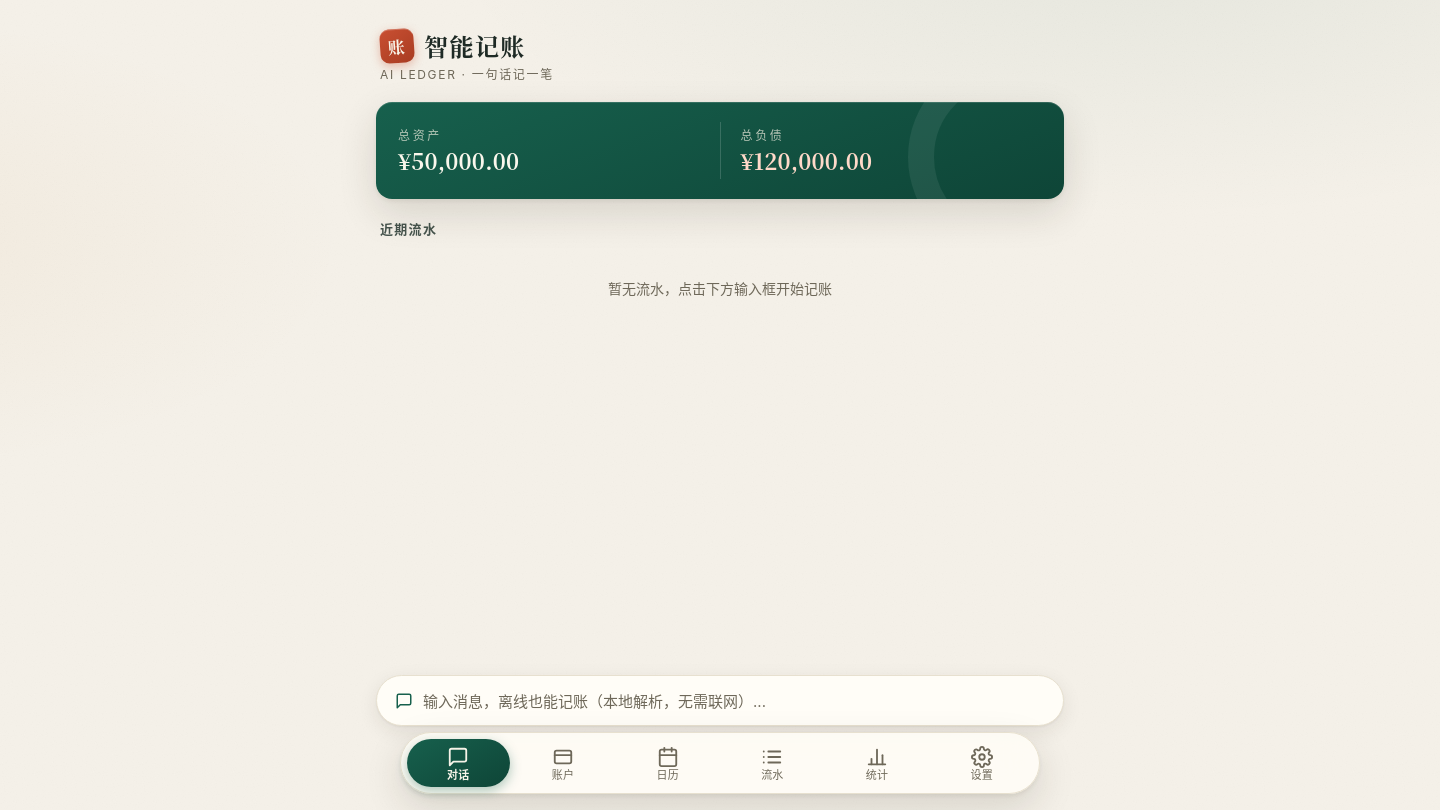
Test: App 冒烟 › 还款提示选择「暂不记录」不产生流水
The image size is (1440, 810).
Click the button "对话".
click(458, 763)  # box [407,739,510,787]
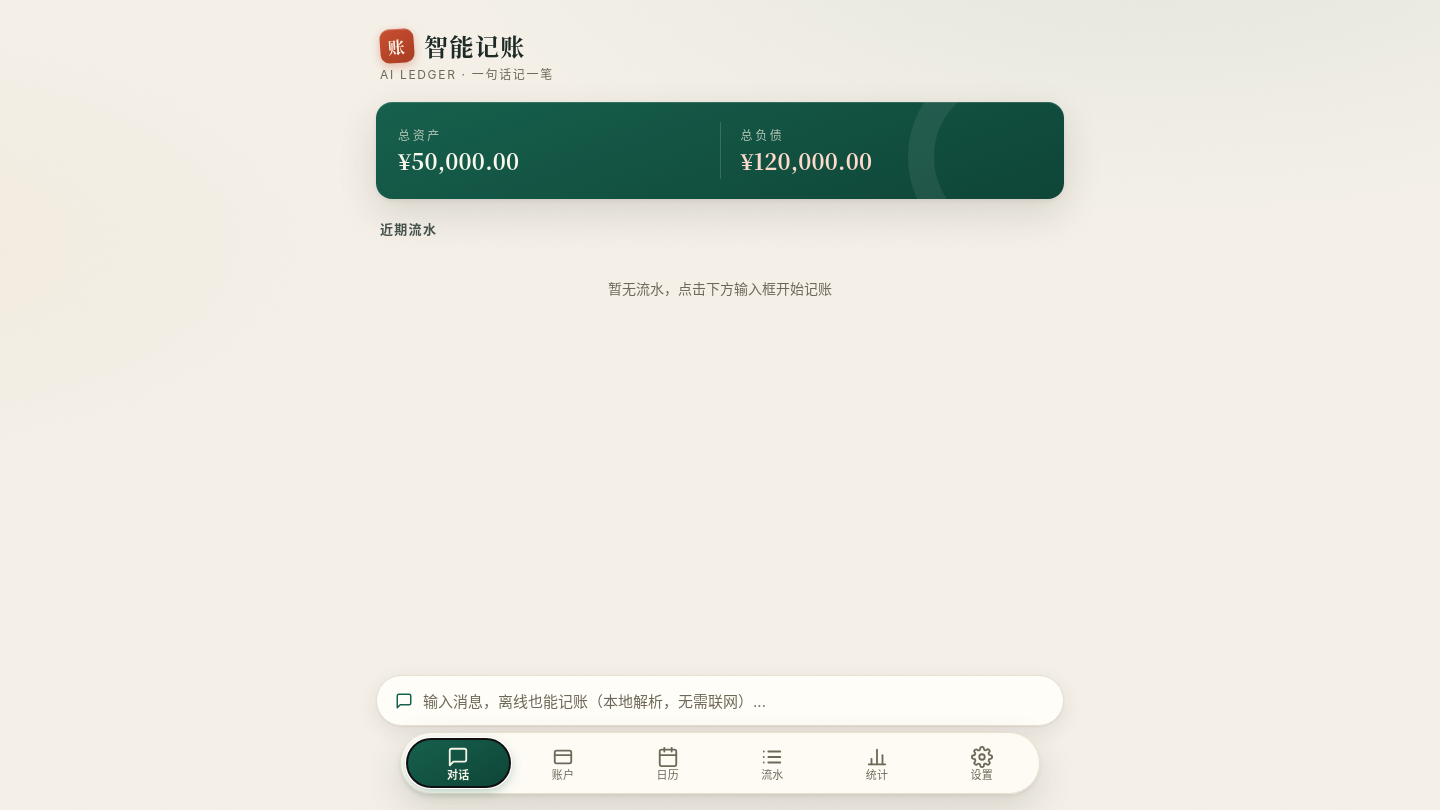
Click the button "输入消息，离线也能记账（本地解析，无需联网）...".
click(720, 700)  # box [376,675,1064,726]
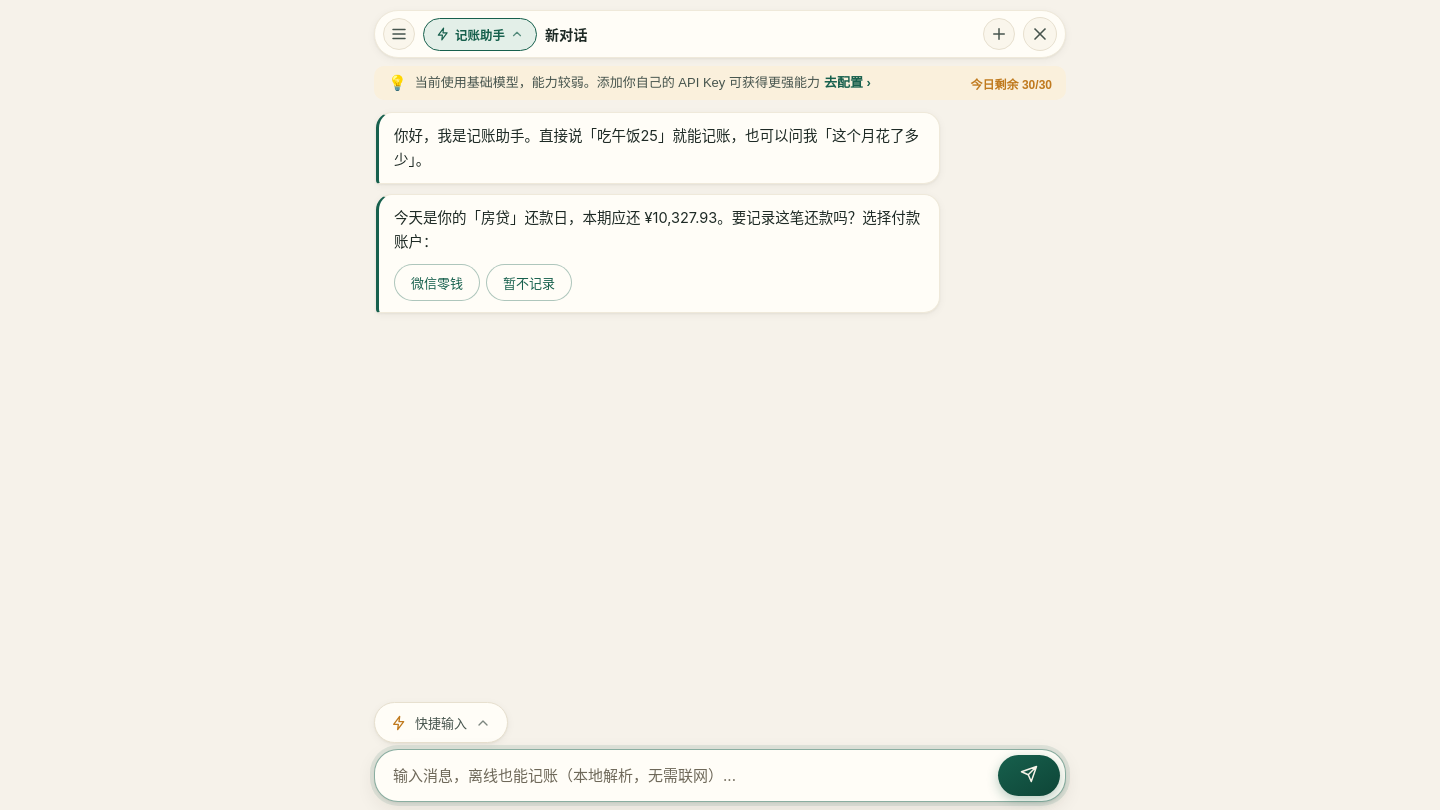
Result: the text "今天是你的「房贷」还款日，本期应还 ¥10,327.93。要记录这笔还款吗？选择付款账户： 微信零钱 暂不记录" is shown at [376,194,940,313]
Click the button "暂不记录".
click(529, 282)  # box [486,264,572,301]
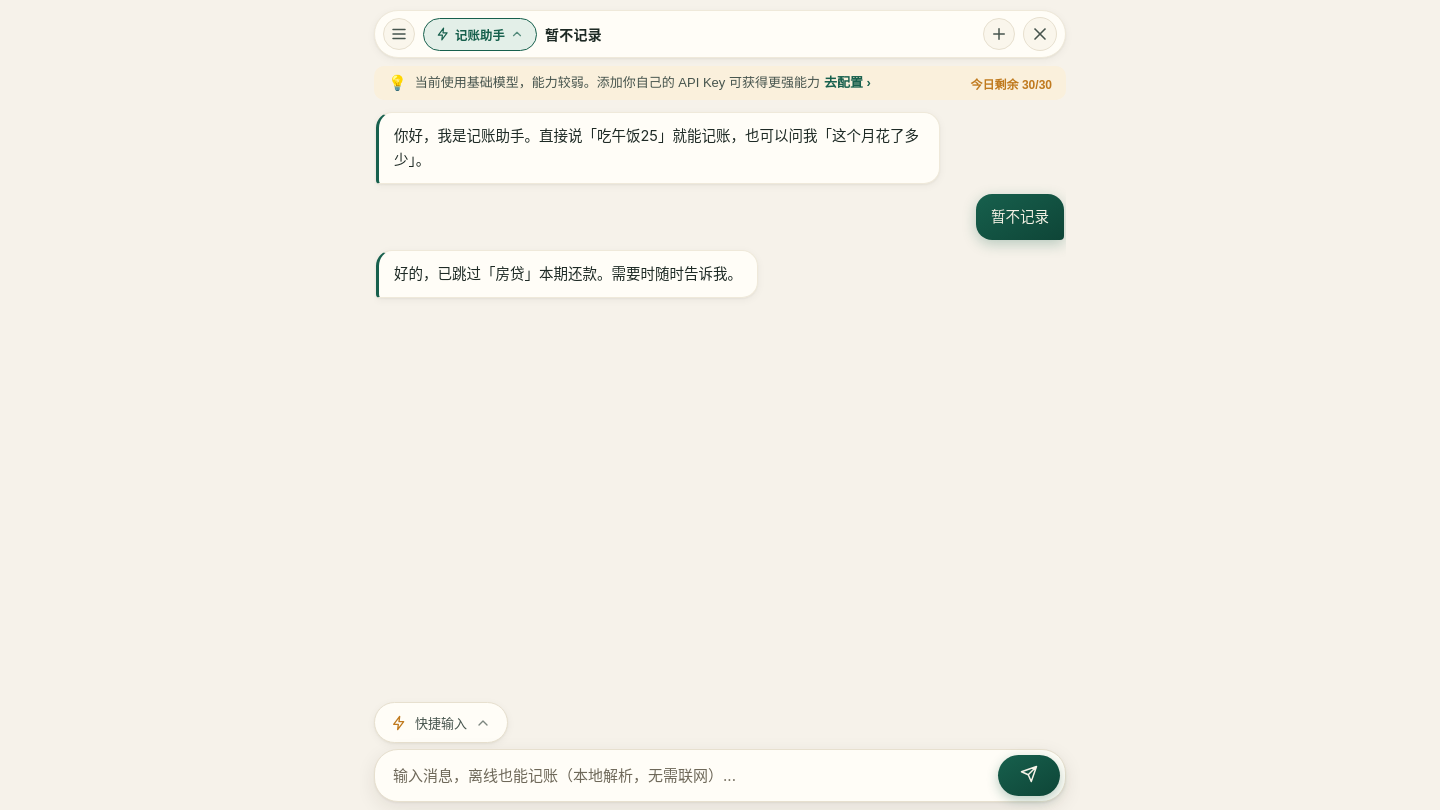
Result: the text "好的，已跳过「房贷」本期还款。需要时随时告诉我。" is shown at [376,250,758,298]
